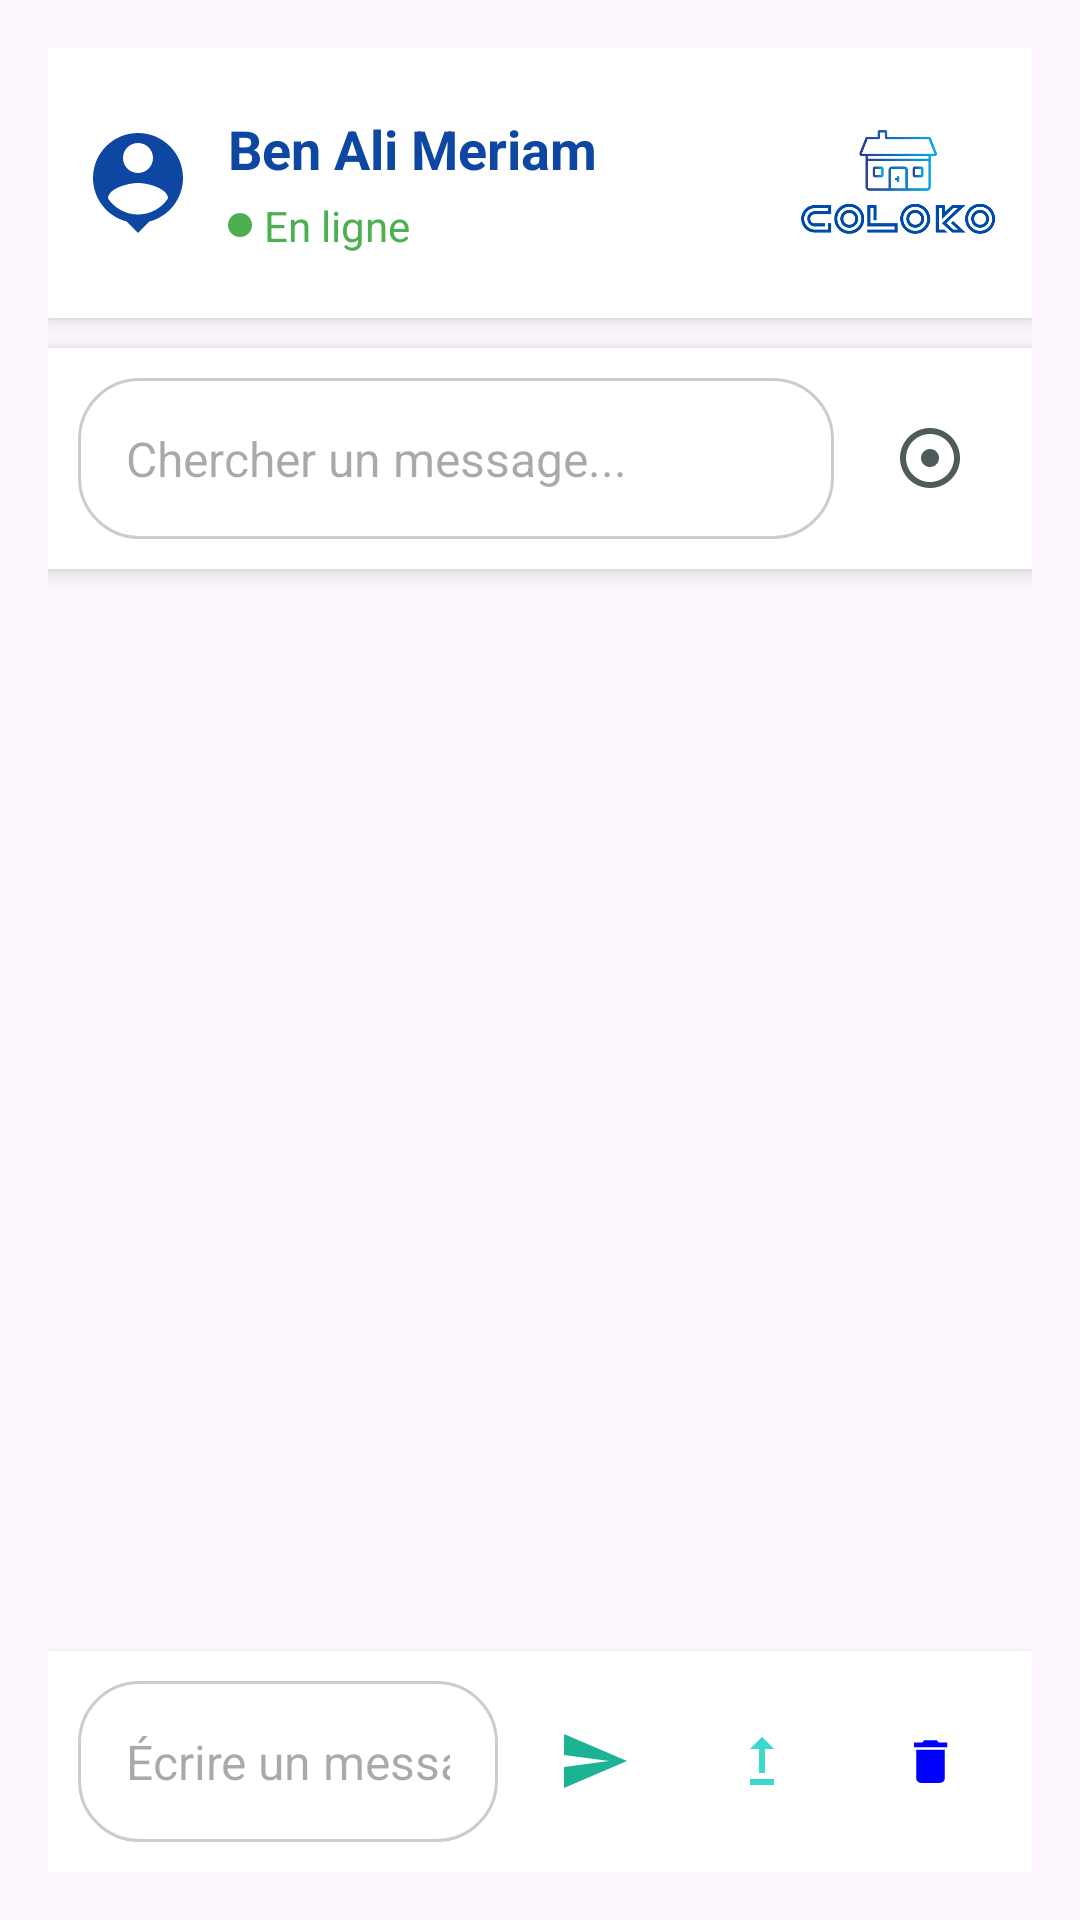

Where to tap for icons on this 1080w x 1920h app screen, as (x=x, y=y):
Envoyer le message: (x=595, y=1761)
Mettre à jour le dernier message: (x=762, y=1761)
Supprimer le dernier message: (x=931, y=1761)
